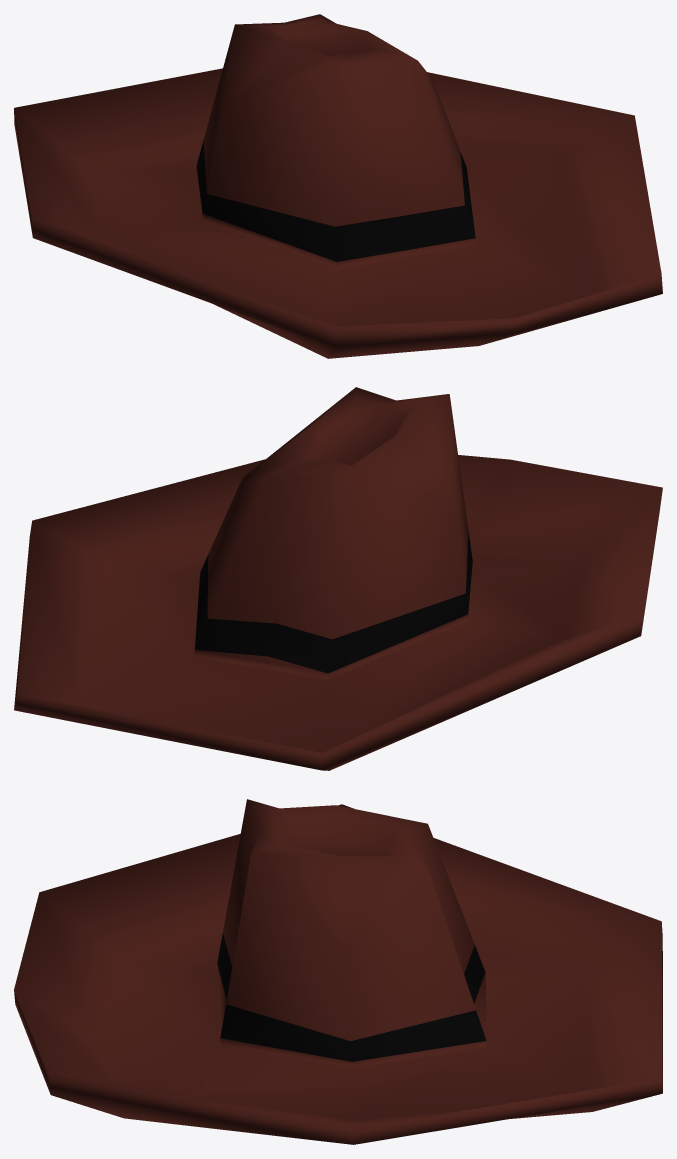
The model's file is Cowboy_Hat.fbx.
3 renders of one model, top to bottom at view 1: azimuth 30°, elevation 25°; view 2: azimuth 150°, elevation 25°; view 3: azimuth 270°, elevation 25°, orthographic. The views are drawn at different scales.
Parts seen in each view (by area): view 1: Cube.001; view 2: Cube.001; view 3: Cube.001.
Boxes of the visible parts, x1=… form: Cube.001: x1=14, y1=14, x2=662, y2=358; Cube.001: x1=14, y1=387, x2=662, y2=770; Cube.001: x1=14, y1=799, x2=662, y2=1144.
Size of the model in its own units: 79.65 by 30.04 by 78.1.
